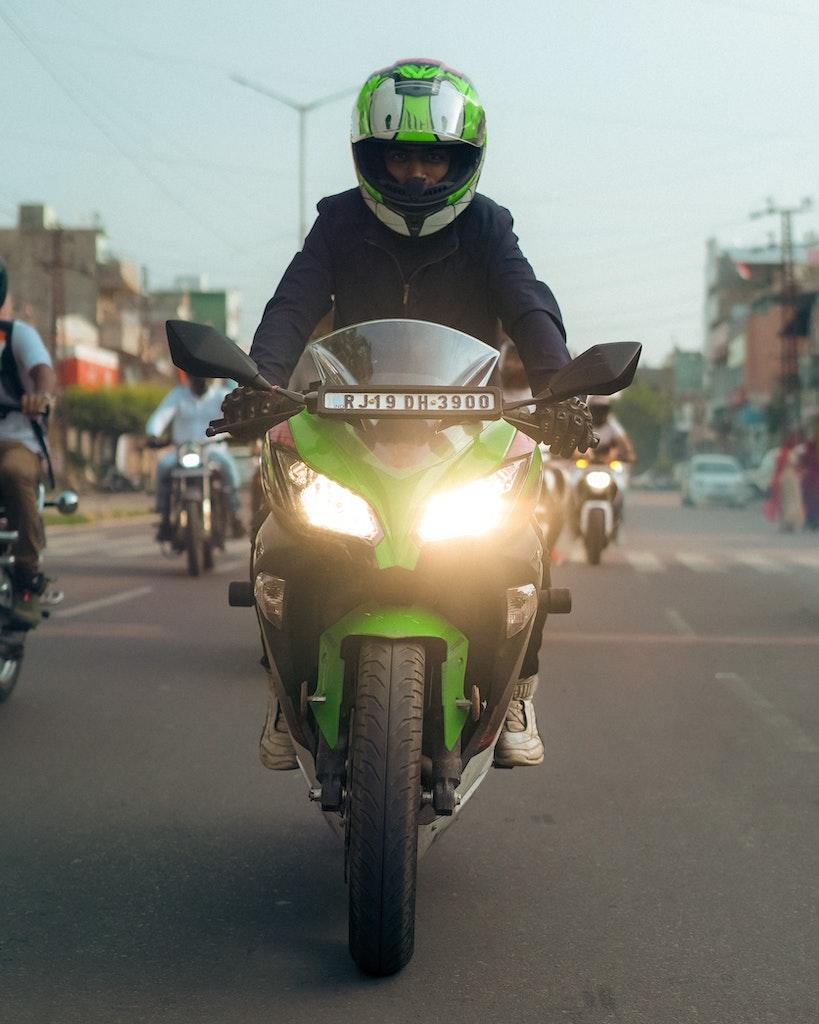helmet: (349, 56, 488, 243)
